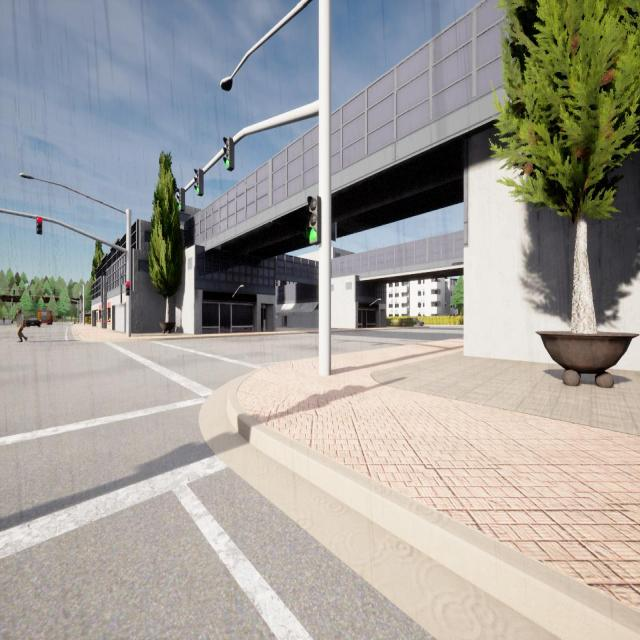Pedestrian: (16, 309, 28, 342)
Vehicle: (37, 310, 53, 325), (26, 317, 40, 327), (414, 318, 424, 326)
traffic_light: (308, 196, 322, 244), (223, 137, 234, 171), (194, 168, 204, 196), (177, 188, 186, 212), (36, 216, 42, 234), (126, 281, 130, 296), (29, 290, 31, 296), (13, 290, 15, 295), (44, 296, 46, 300), (32, 296, 33, 300), (58, 297, 59, 301), (80, 295, 81, 299), (81, 295, 82, 299), (80, 310, 80, 314)
